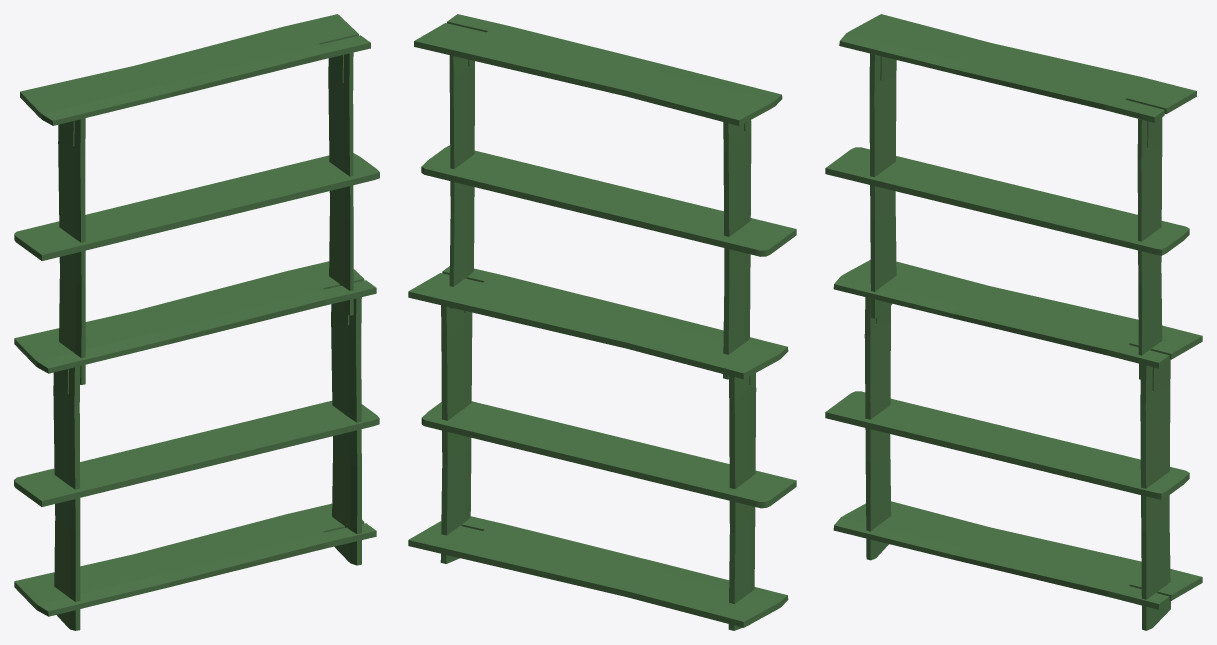
The model's file is Shelf_Grp_09_Lod1.fbx.
3 renders of one model, left to right at view 1: azimuth 30°, elevation 25°; view 2: azimuth 150°, elevation 25°; view 3: azimuth 330°, elevation 25°, orthographic. The views are drawn at different scales.
Visible parts, largest first — view 1: Shelf_Grp_09_Lod1; view 2: Shelf_Grp_09_Lod1; view 3: Shelf_Grp_09_Lod1.
Part boxes in pixels (x1,y1,x2,y2): Shelf_Grp_09_Lod1: [14, 14, 379, 630]; Shelf_Grp_09_Lod1: [408, 14, 796, 630]; Shelf_Grp_09_Lod1: [825, 14, 1202, 630].
Size of the model in its own units: 221 by 323 by 44.63.
